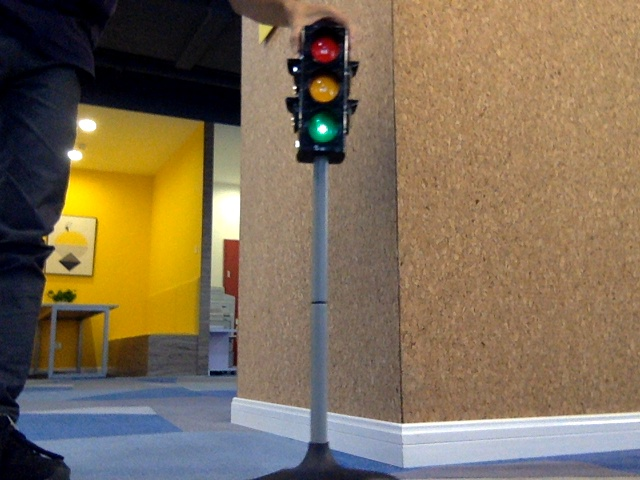green: (302, 30, 340, 149)
